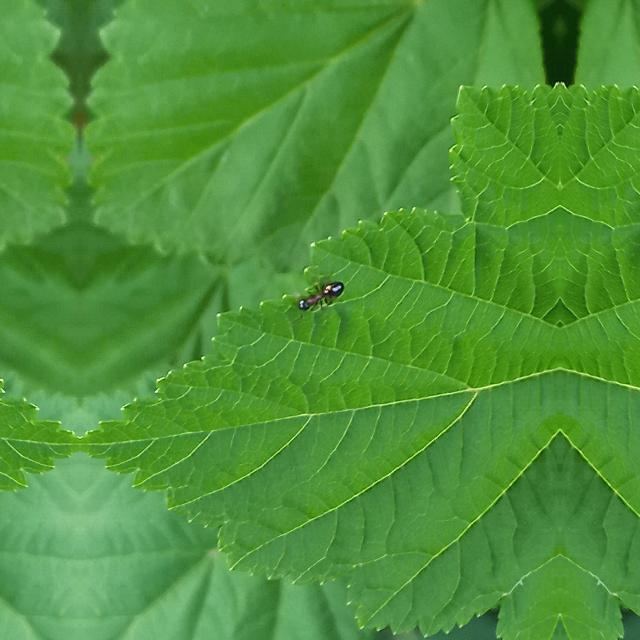Dolichoderus: (290, 267, 350, 321)
